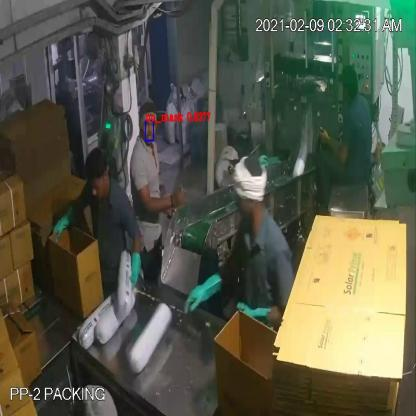glove: (178, 262, 226, 320), (231, 299, 281, 337), (52, 197, 78, 248), (124, 241, 147, 292)
no_glove: (138, 169, 192, 216), (312, 118, 352, 170)
